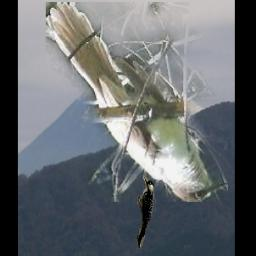Cuckoo: (47, 3, 229, 203)
Woodpecker: (134, 175, 157, 254)
